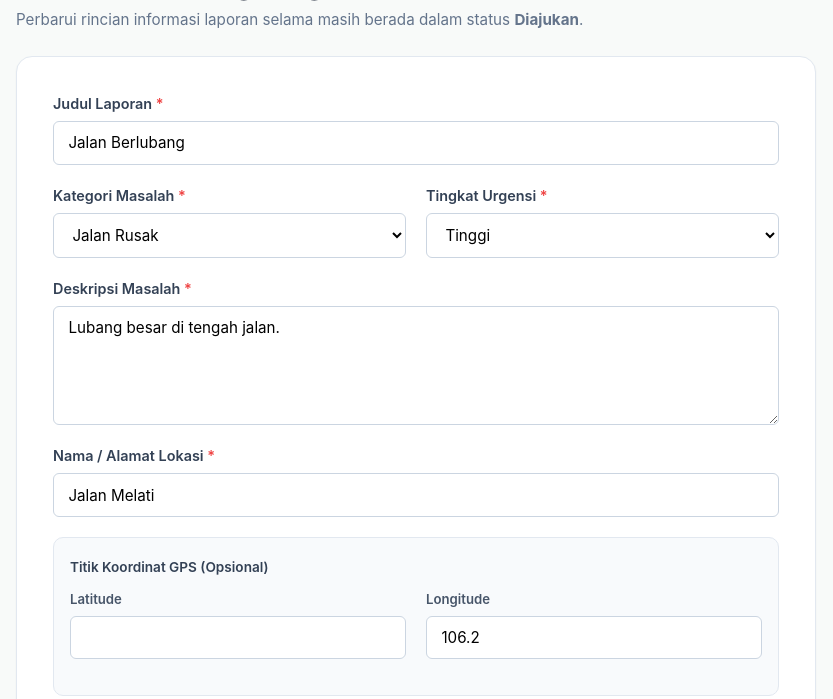
Test: EditReportPage › submits null coordinates and reports update failures
Check: the field showing "Jalan Berlubang" is shown, box [53,121,779,165]
Clear the number field labelled "Longitude" at [594, 638], box [426,616,762,659]
(page scrolled)
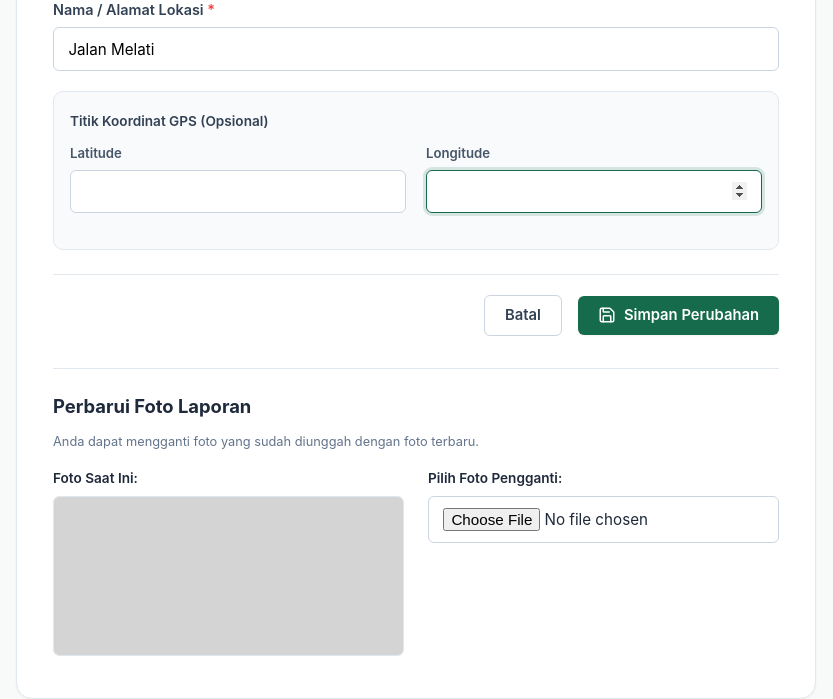
Click the button "Simpan Perubahan" at [678, 316], box [578,296,779,335]
(page scrolled)
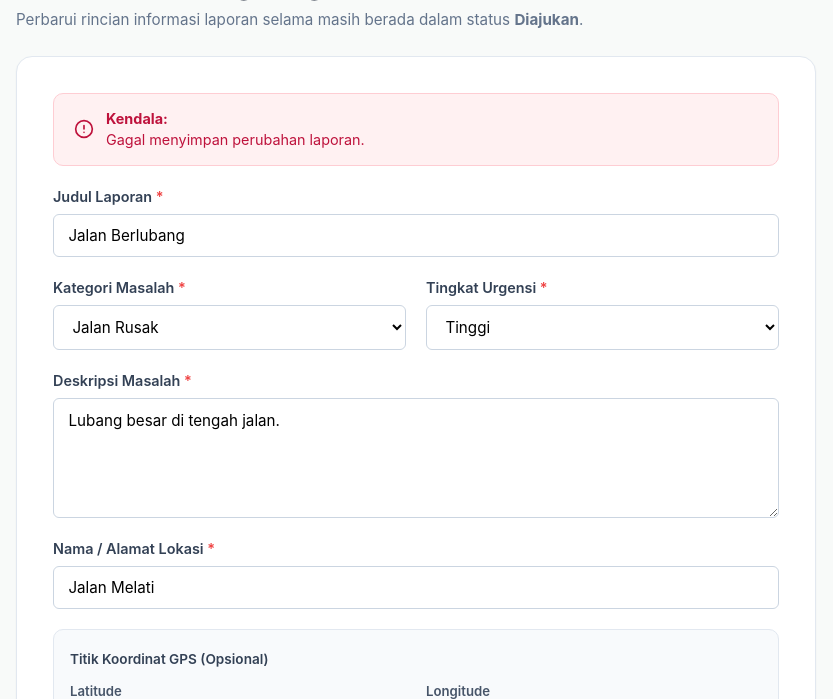
Check: the message shows "Gagal menyimpan perubahan laporan.", box [106,131,365,148]
